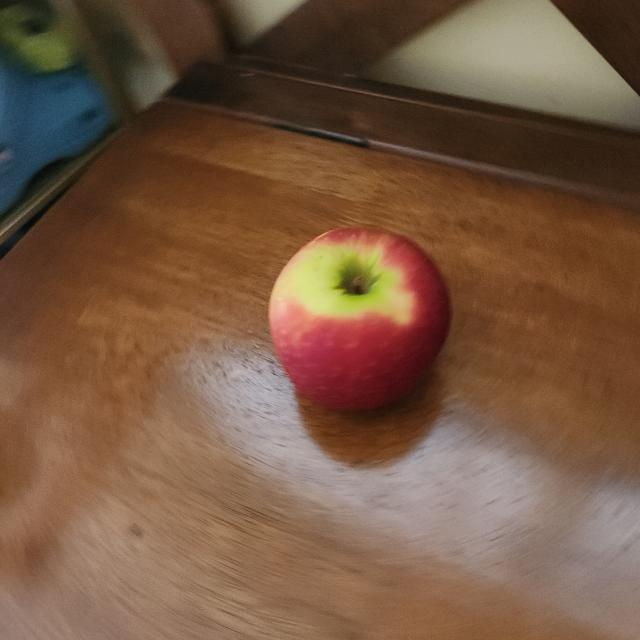apple: (265, 220, 458, 430)
